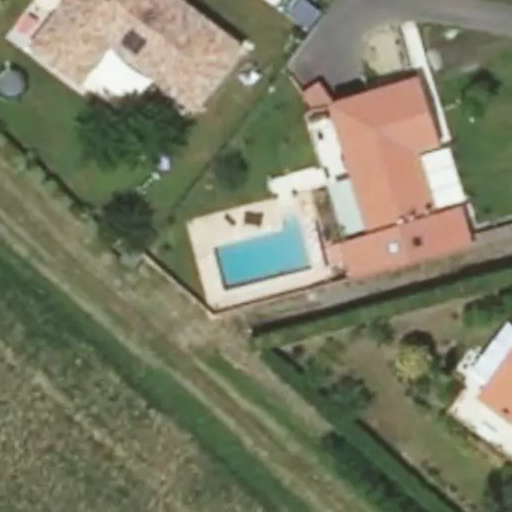pool: (213, 213, 311, 291)
